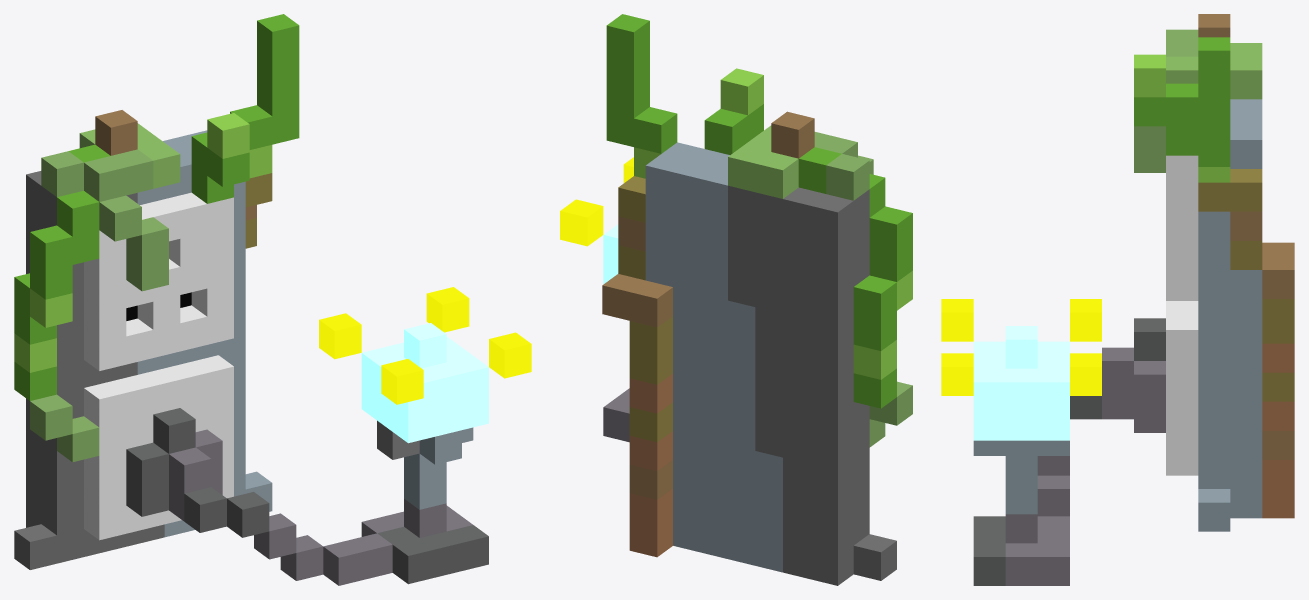
File: Energy.gltf
The picture shows the model from 3 angles, left to right: view 1: azimuth 30°, elevation 25°; view 2: azimuth 150°, elevation 25°; view 3: azimuth 270°, elevation 25°; orthographic projection. The views are drawn at different scales.
Bounding box in the file's own units: 14 × 17 × 11.
Materials: 3 (3 with a texture image).
